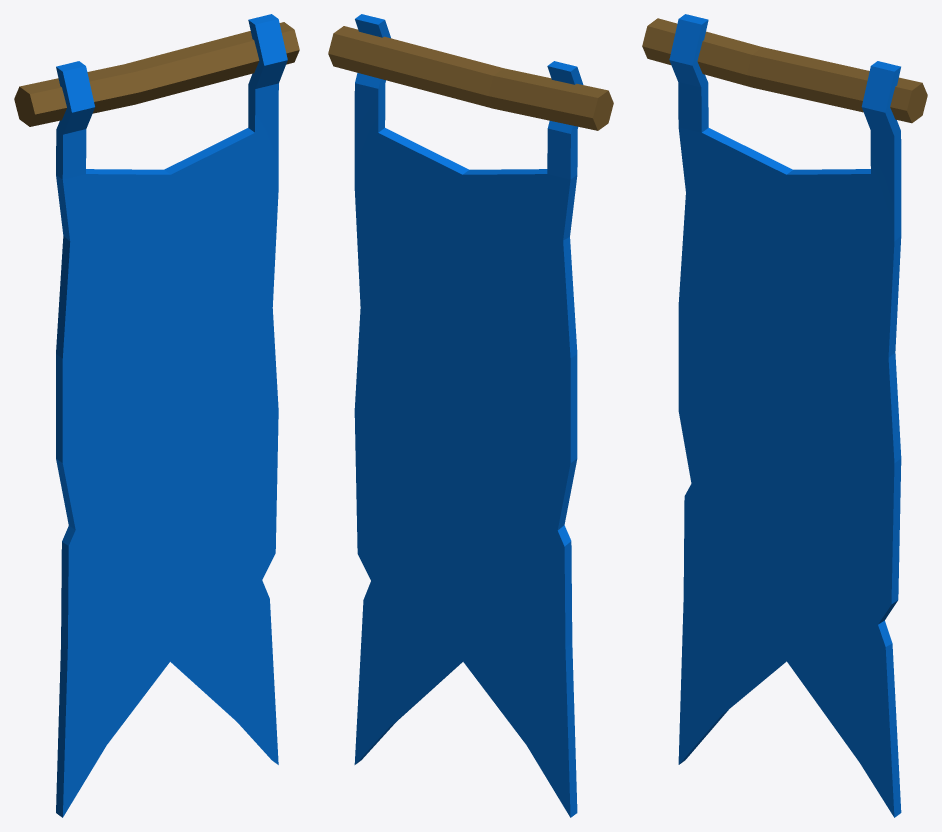
Rendered from FlagBlue.fbx.
The picture shows the model from 3 angles, left to right: view 1: azimuth 30°, elevation 25°; view 2: azimuth 150°, elevation 25°; view 3: azimuth 330°, elevation 25°; orthographic projection.
Visible parts, largest first — view 1: SM_Prop_Banner_01; view 2: SM_Prop_Banner_01; view 3: SM_Prop_Banner_01.
Part boxes in pixels (x1,y1,x2,y2): SM_Prop_Banner_01: (14,14,299,817); SM_Prop_Banner_01: (328,14,613,817); SM_Prop_Banner_01: (642,14,927,817).
Size of the model in its own units: 120 by 323 by 20.26.
